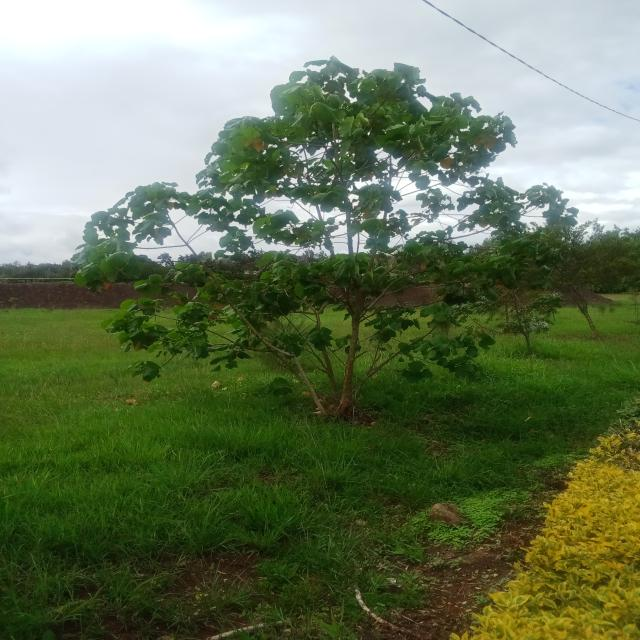Croton machrostychus: (60, 47, 616, 443)
